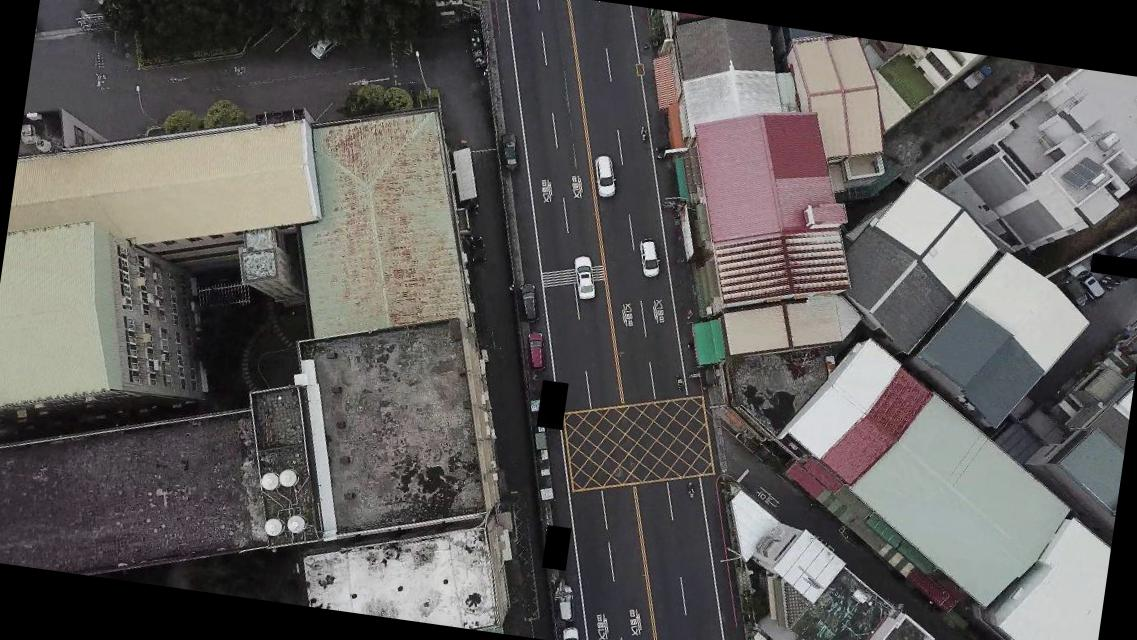vehicle: (1068, 260, 1110, 298), (567, 254, 600, 302), (590, 154, 620, 201), (1052, 270, 1089, 308), (634, 235, 664, 280), (550, 582, 579, 626), (514, 281, 542, 324), (522, 330, 548, 374), (308, 31, 342, 64), (496, 132, 522, 172), (558, 623, 585, 639)
